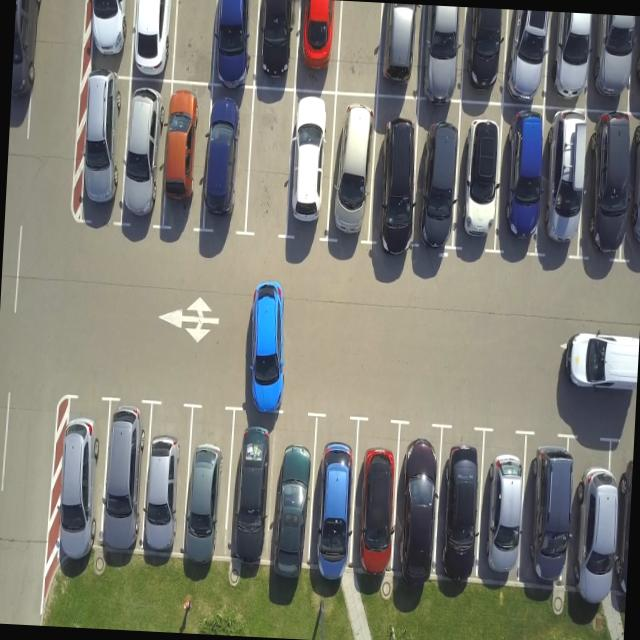car: (563, 458, 629, 624), (520, 431, 582, 604), (96, 395, 152, 563), (308, 414, 362, 583), (346, 416, 399, 588), (574, 118, 637, 262), (224, 408, 280, 570), (179, 404, 235, 565), (140, 402, 195, 565), (390, 420, 444, 586), (58, 394, 108, 570), (326, 91, 382, 248), (474, 428, 528, 590), (369, 97, 426, 250), (266, 412, 318, 579), (434, 423, 488, 582), (69, 73, 126, 223), (492, 112, 551, 254), (202, 82, 256, 236), (536, 114, 594, 256), (454, 111, 510, 256), (156, 83, 207, 240), (410, 103, 464, 251), (284, 90, 335, 246), (120, 76, 170, 230), (582, 13, 638, 112), (544, 14, 598, 112), (500, 12, 552, 109), (461, 8, 514, 102), (416, 7, 467, 104), (374, 5, 422, 100), (209, 0, 259, 87), (292, 0, 340, 90), (255, 0, 304, 87), (81, 0, 134, 79), (129, 0, 180, 78), (621, 121, 640, 264), (628, 16, 640, 111)
free: (245, 86, 298, 240), (336, 1, 388, 94), (172, 0, 221, 84)
